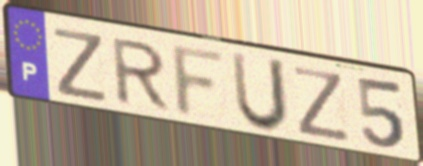5: (355, 77, 408, 151)
F: (170, 42, 229, 122)
R: (111, 36, 173, 114)
U: (229, 49, 291, 136)
Z: (291, 64, 353, 145), (51, 25, 110, 106)
